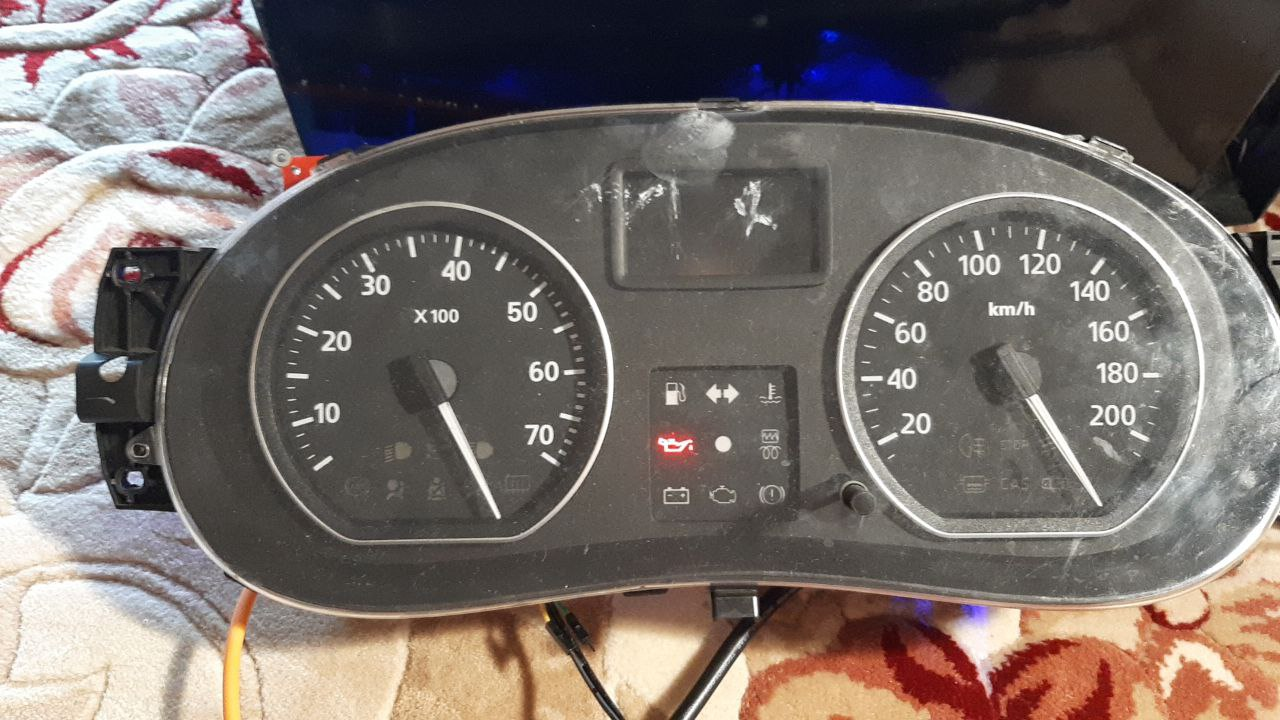oil: (653, 428, 698, 460)
